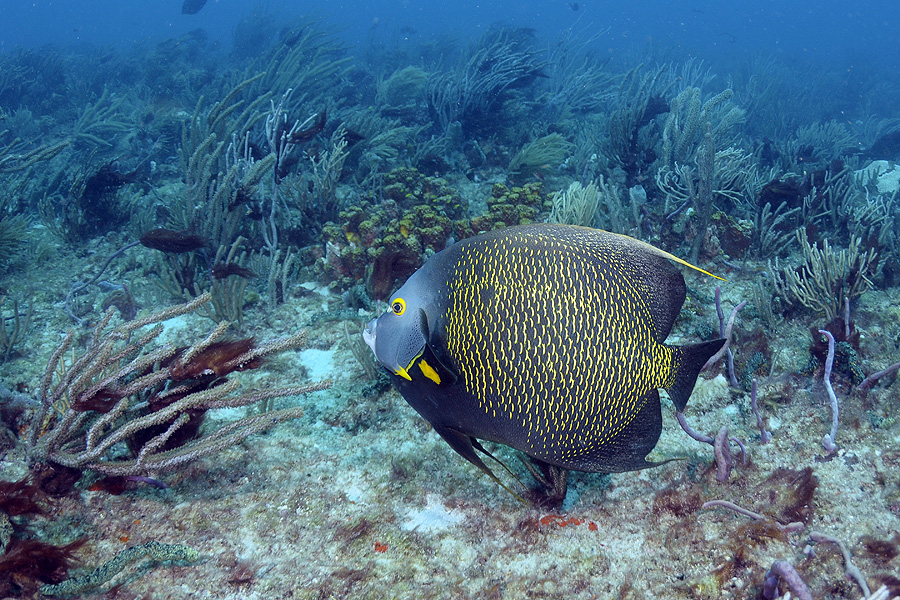Pomacanthus_paru: (340, 204, 736, 533)
